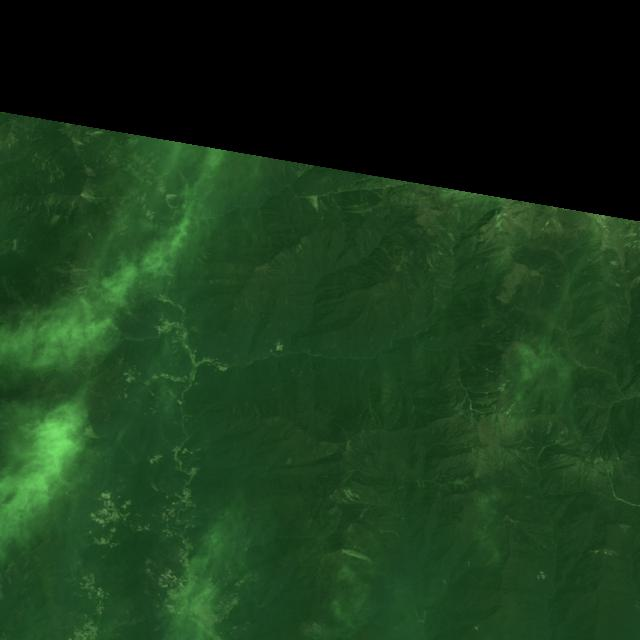landslides: (429, 214, 456, 243), (341, 548, 374, 565), (342, 487, 371, 504), (477, 325, 507, 341), (605, 458, 615, 497), (9, 118, 33, 133), (455, 390, 469, 411), (539, 256, 558, 271), (104, 268, 131, 278), (345, 486, 362, 501), (533, 581, 554, 593), (512, 447, 527, 463), (59, 471, 80, 482), (99, 273, 116, 286), (438, 234, 452, 249), (498, 258, 512, 273), (628, 274, 640, 290), (440, 479, 464, 487), (555, 428, 567, 444), (86, 473, 96, 492), (379, 529, 400, 538), (52, 421, 72, 430), (51, 214, 62, 230), (245, 299, 255, 316), (295, 152, 303, 172), (552, 216, 565, 228), (496, 255, 507, 269), (47, 197, 56, 214), (344, 543, 363, 551), (519, 419, 527, 438), (232, 392, 239, 413), (450, 390, 459, 406), (0, 466, 12, 478), (499, 447, 505, 471), (629, 258, 639, 272), (190, 425, 202, 436), (47, 592, 69, 598), (371, 190, 384, 200), (446, 379, 460, 388), (589, 256, 602, 265), (371, 409, 379, 423), (97, 284, 107, 295), (121, 228, 134, 236)
